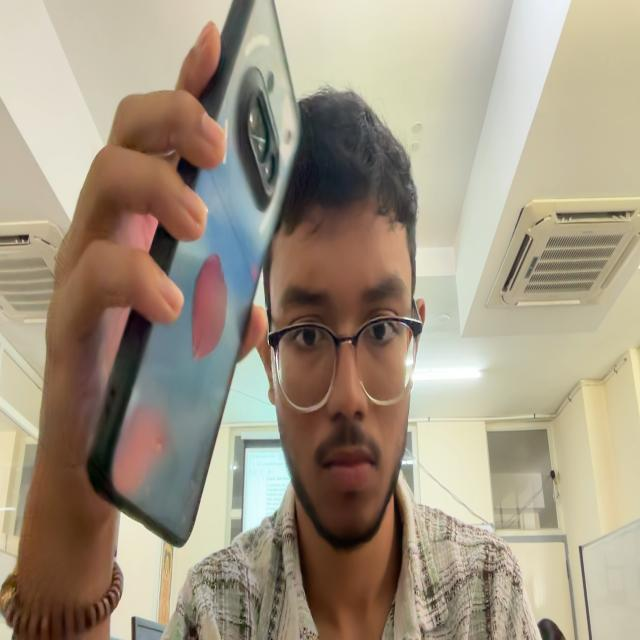Useful: (87, 0, 300, 546)
